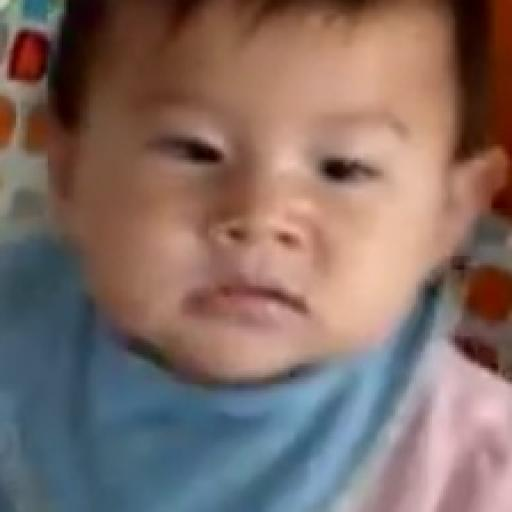Autism: (39, 2, 512, 421)
